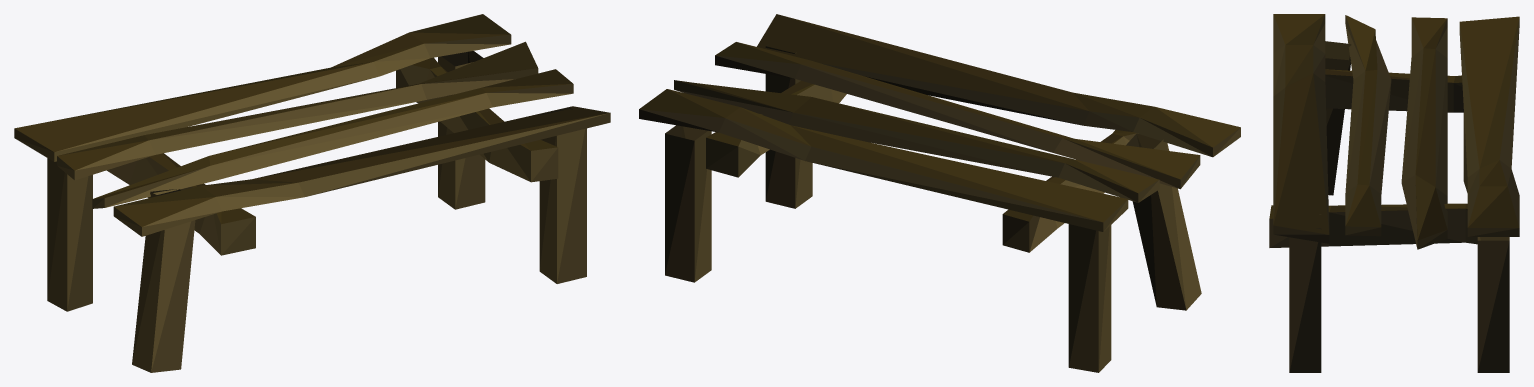
The model's file is Object Table 2026-07-31_21-19-20.obj.
The picture shows the model from 3 angles, left to right: view 1: azimuth 30°, elevation 25°; view 2: azimuth 150°, elevation 25°; view 3: azimuth 270°, elevation 25°; orthographic projection. The views are drawn at different scales.
Visible parts, largest first — view 1: Object Table 2026-07-31_21-19-20; view 2: Object Table 2026-07-31_21-19-20; view 3: Object Table 2026-07-31_21-19-20.
Part boxes in pixels (x1,y1,x2,y2): Object Table 2026-07-31_21-19-20: (14, 14, 610, 372); Object Table 2026-07-31_21-19-20: (639, 14, 1240, 372); Object Table 2026-07-31_21-19-20: (1269, 14, 1519, 372).
Bounding box in the file's own units: 255 × 90 × 125.
